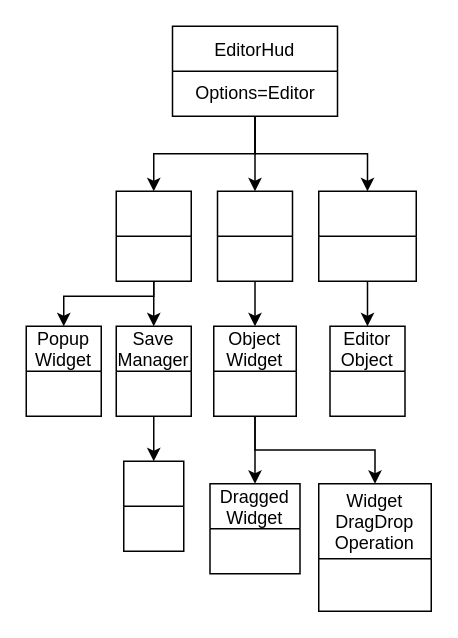
Image size: 458x638. Some labels were removed from this diagram. Each missing label, with the centre of its shape:
"Editor Controller" goes at [366,235].
"Editor Widget" goes at [254,235].
"Save Level" goes at [153,505].
"Topbar" goes at [153,235].
